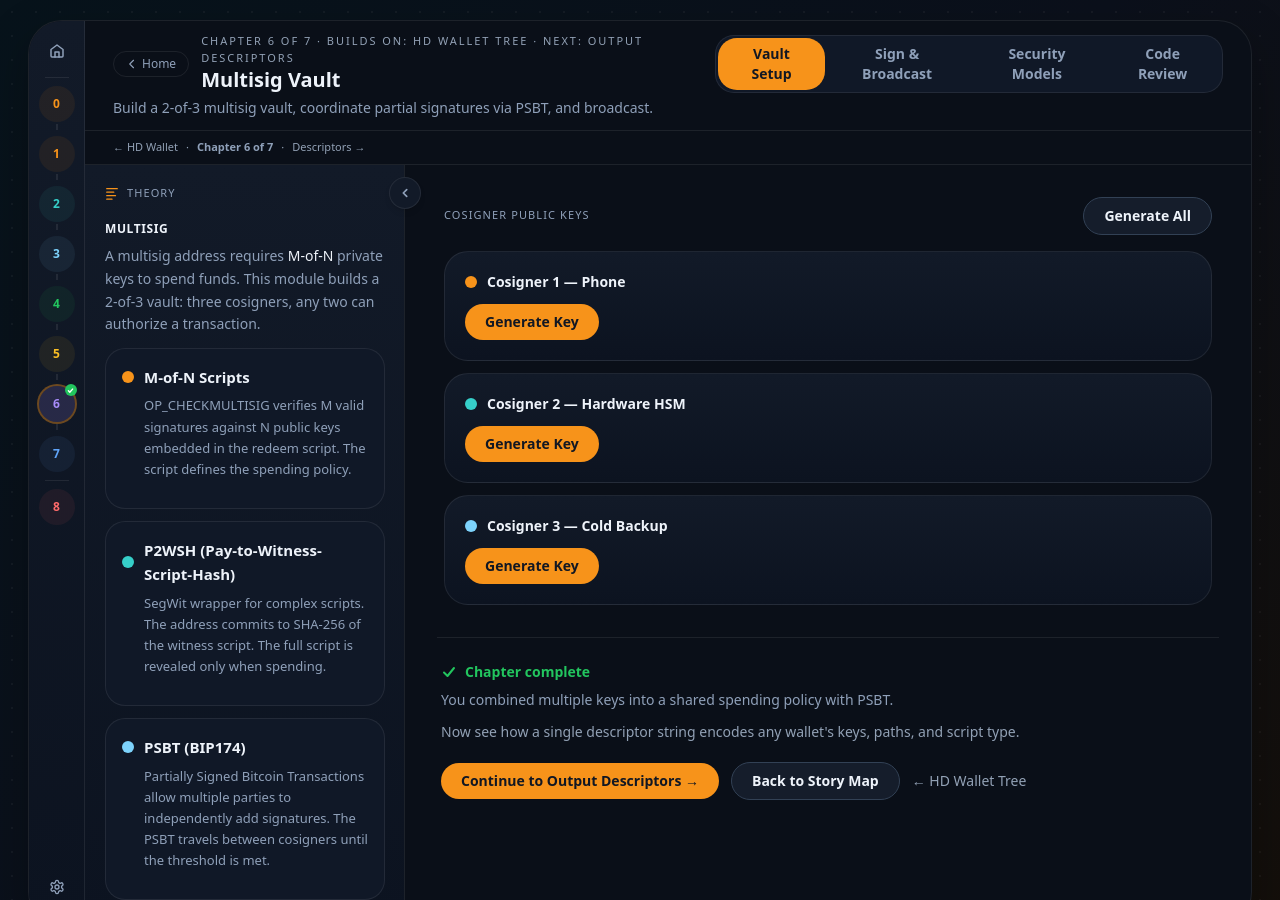
MultisigVault › AC7: security callout about redeem script backup is present
Click the button "Generate All" at point(1148, 216), box [1083,196,1212,234]
(page scrolled)
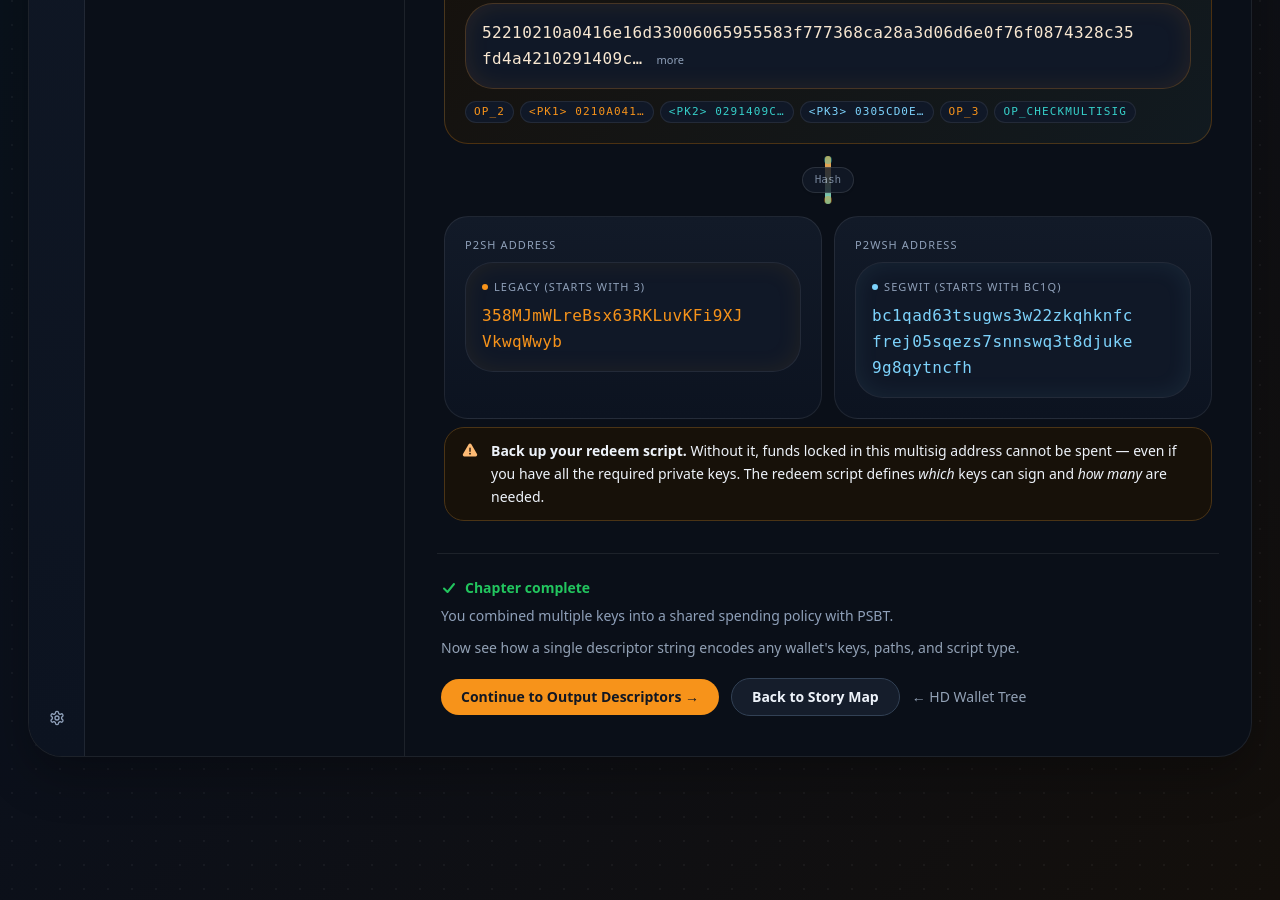
Now the text "Back up your redeem script." is shown, box [491,441,687,460]
